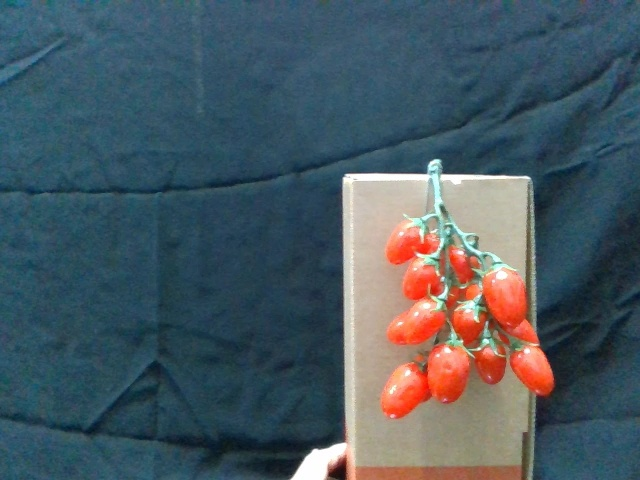tomato: (482, 259, 528, 328), (388, 292, 449, 344), (380, 353, 427, 420), (429, 340, 472, 407), (510, 339, 556, 396), (387, 213, 432, 266), (400, 251, 448, 300), (453, 294, 492, 348), (474, 328, 506, 385)
